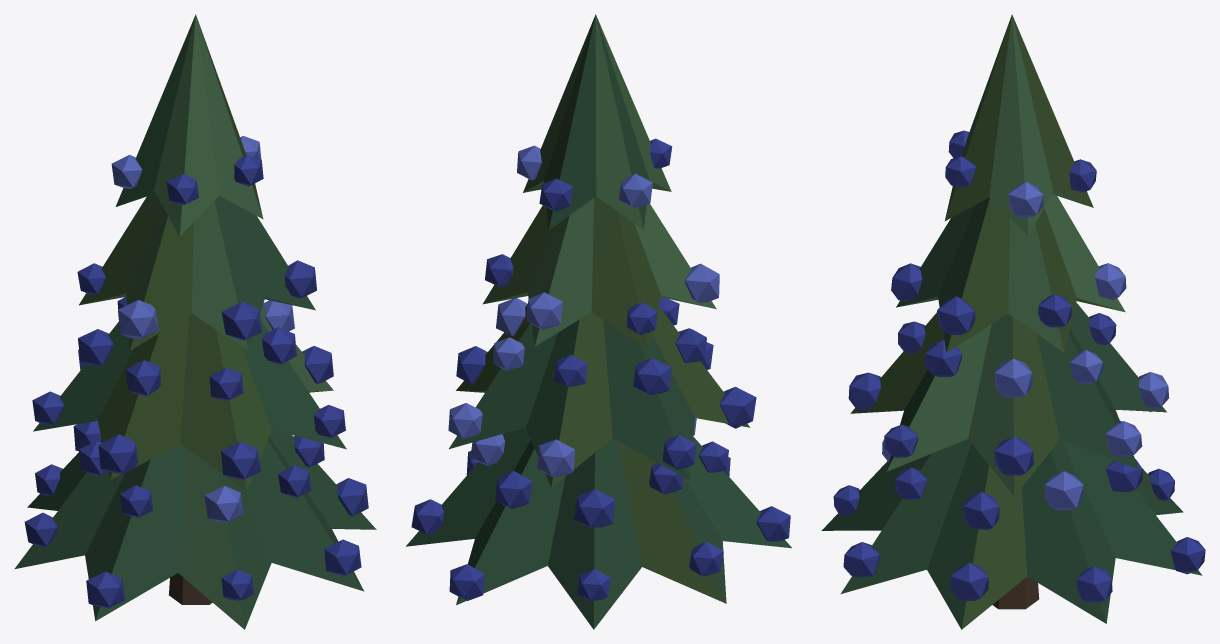
File: food_bush_a.fbx
3 renders of one model, left to right at view 1: azimuth 30°, elevation 25°; view 2: azimuth 150°, elevation 25°; view 3: azimuth 270°, elevation 25°, orthographic.
Parts seen in each view (by area): view 1: food_bush_a; view 2: food_bush_a; view 3: food_bush_a.
Boxes of the visible parts, x1=… form: food_bush_a: x1=14, y1=14, x2=376, y2=629; food_bush_a: x1=406, y1=14, x2=791, y2=629; food_bush_a: x1=821, y1=14, x2=1205, y2=629.
Size of the model in its own units: 1 by 1.78 by 1.06.
